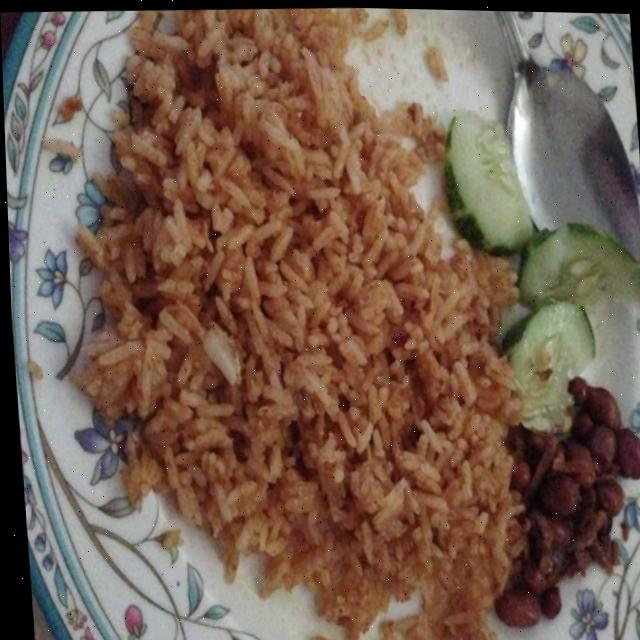米饭主食: (61, 1, 640, 640)
